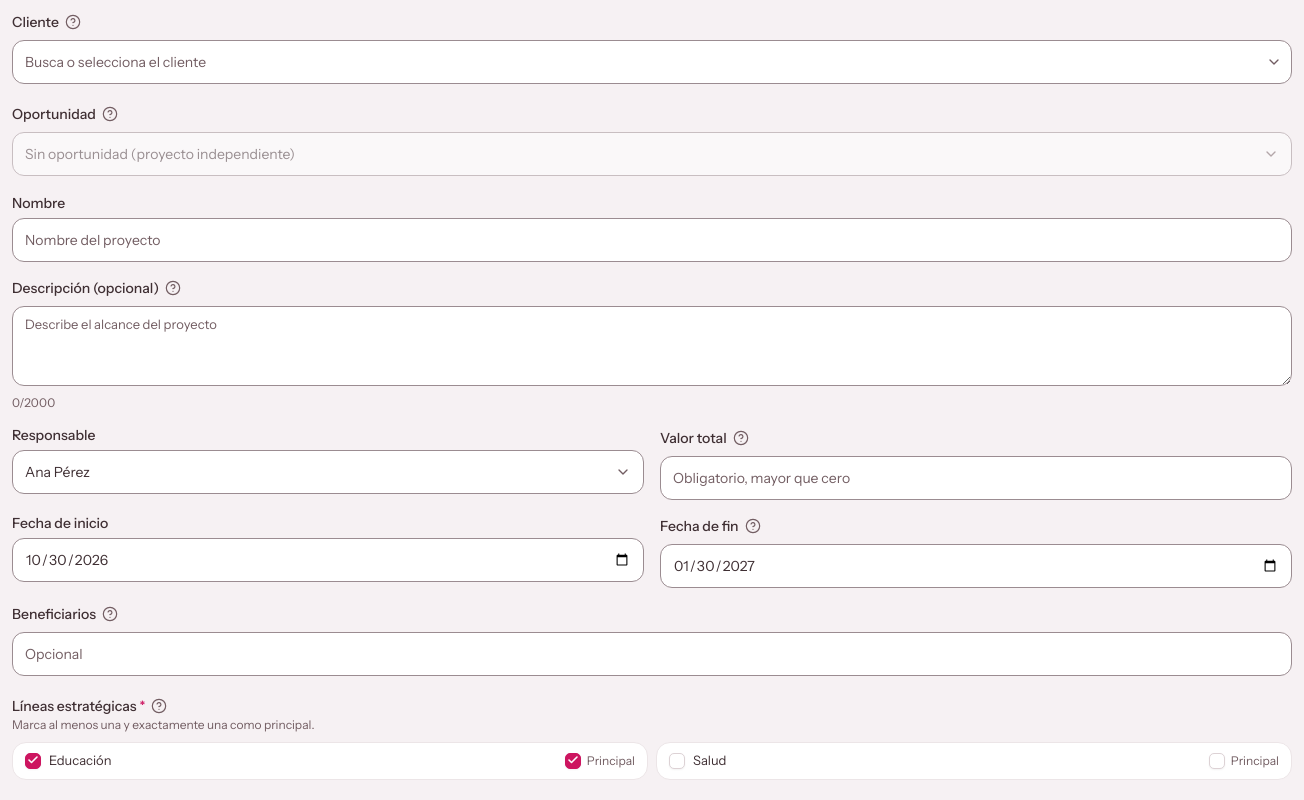
Test: ProjectCreateForm › says so when no client matches the search
Type "no existe" into the dropdown labelled "Cliente". click: {"x": 652, "y": 62}
box: top-left (12, 40), bottom-right (1292, 84)
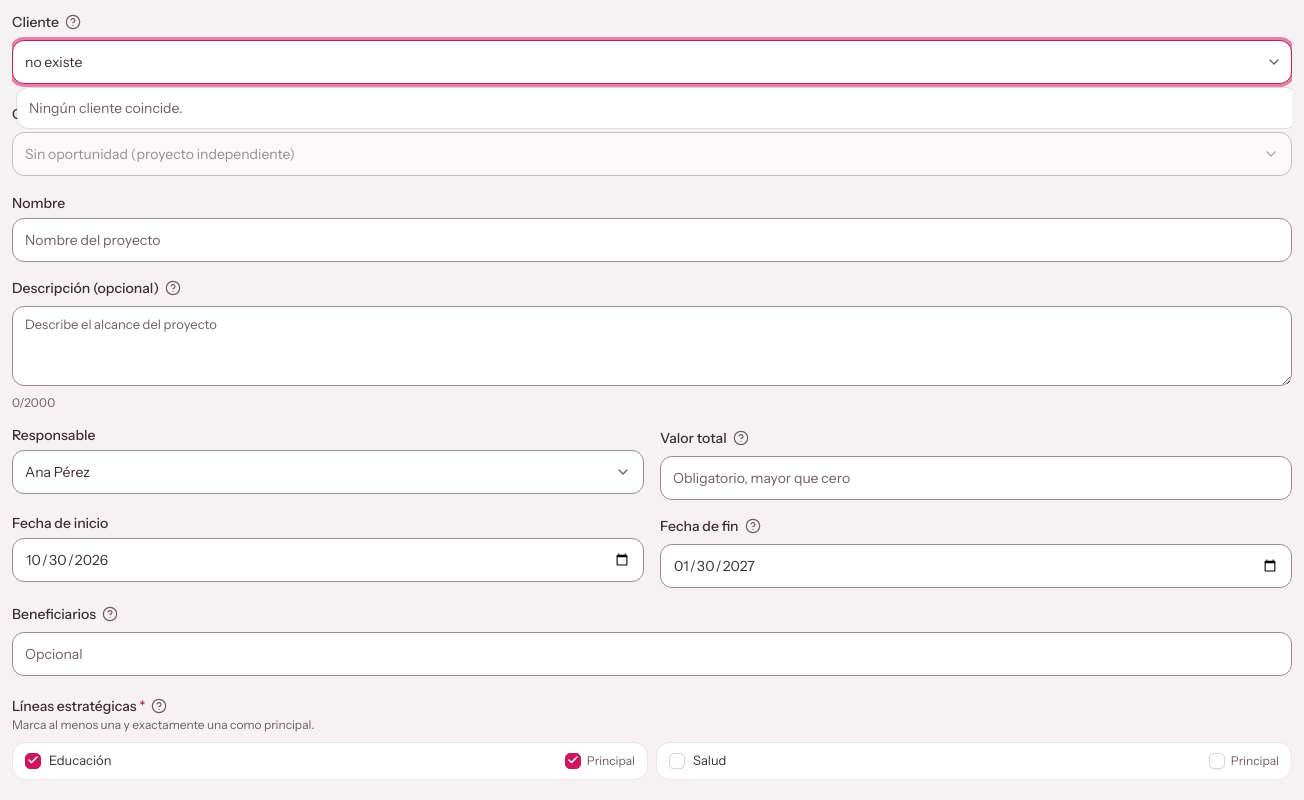
Result: the text "Ningún cliente coincide." is shown at top-left (29, 99), bottom-right (182, 117)
